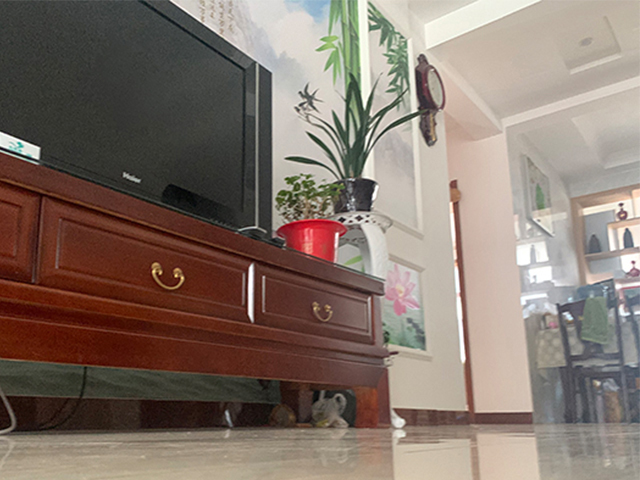cabinet: (1, 148, 393, 431)
stool: (556, 288, 627, 425)
wire: (1, 363, 87, 434)
